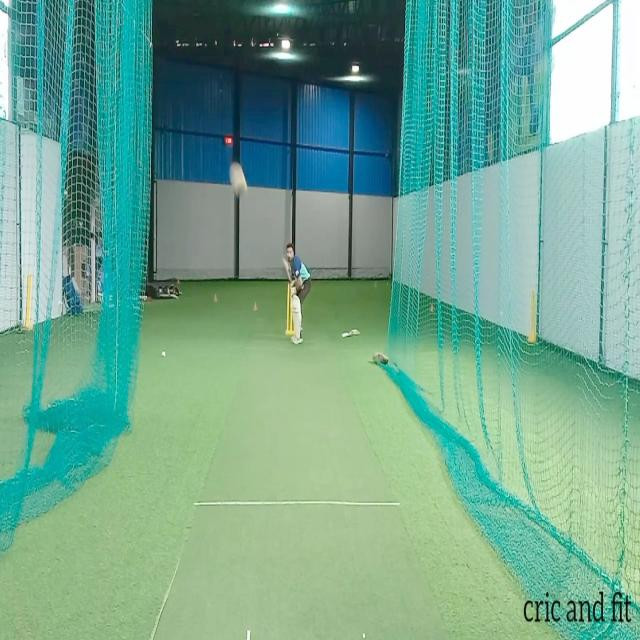batsman: (282, 242, 312, 346)
